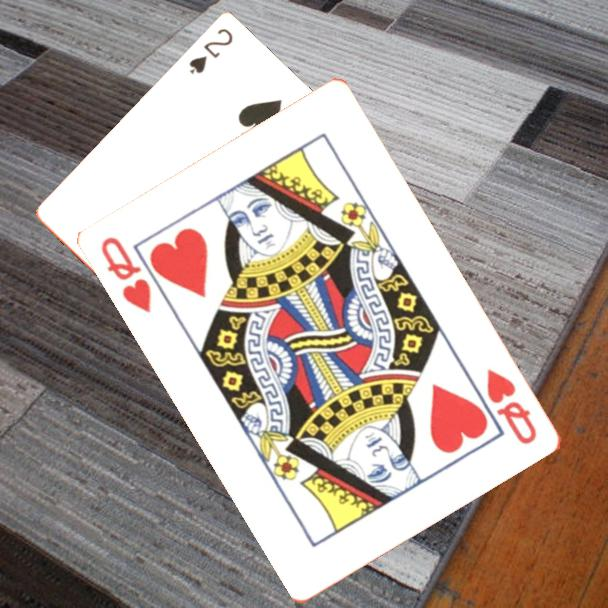h12: (483, 365, 541, 448), (98, 233, 155, 316)
s02: (185, 25, 236, 78)
